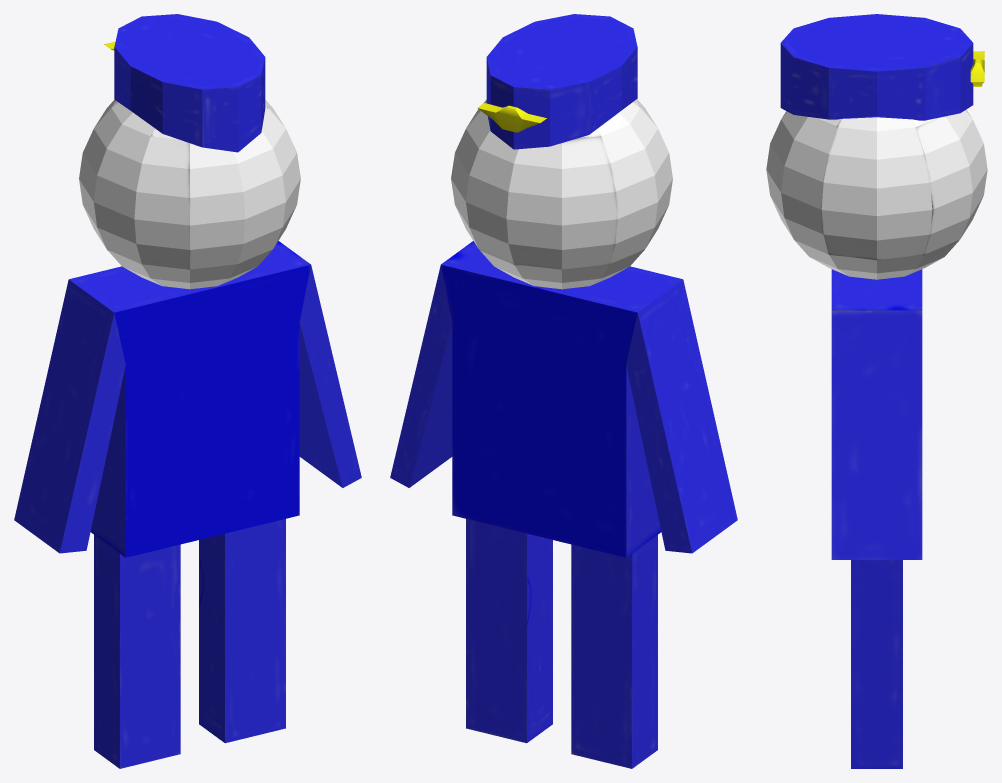
Rendered from steward.fbx.
3 views of the same model, side by side, from view 1: azimuth 30°, elevation 25°; view 2: azimuth 150°, elevation 25°; view 3: azimuth 270°, elevation 25° (orthographic).
Parts seen in each view (by area): view 1: polySurface3; view 2: polySurface3; view 3: polySurface3.
Part boxes in pixels (bbox=[...]): polySurface3: bbox=[14, 14, 361, 768]; polySurface3: bbox=[390, 14, 737, 768]; polySurface3: bbox=[766, 14, 987, 768].
Bounding box in the file's own units: 1.44 × 3.12 × 0.9134.
